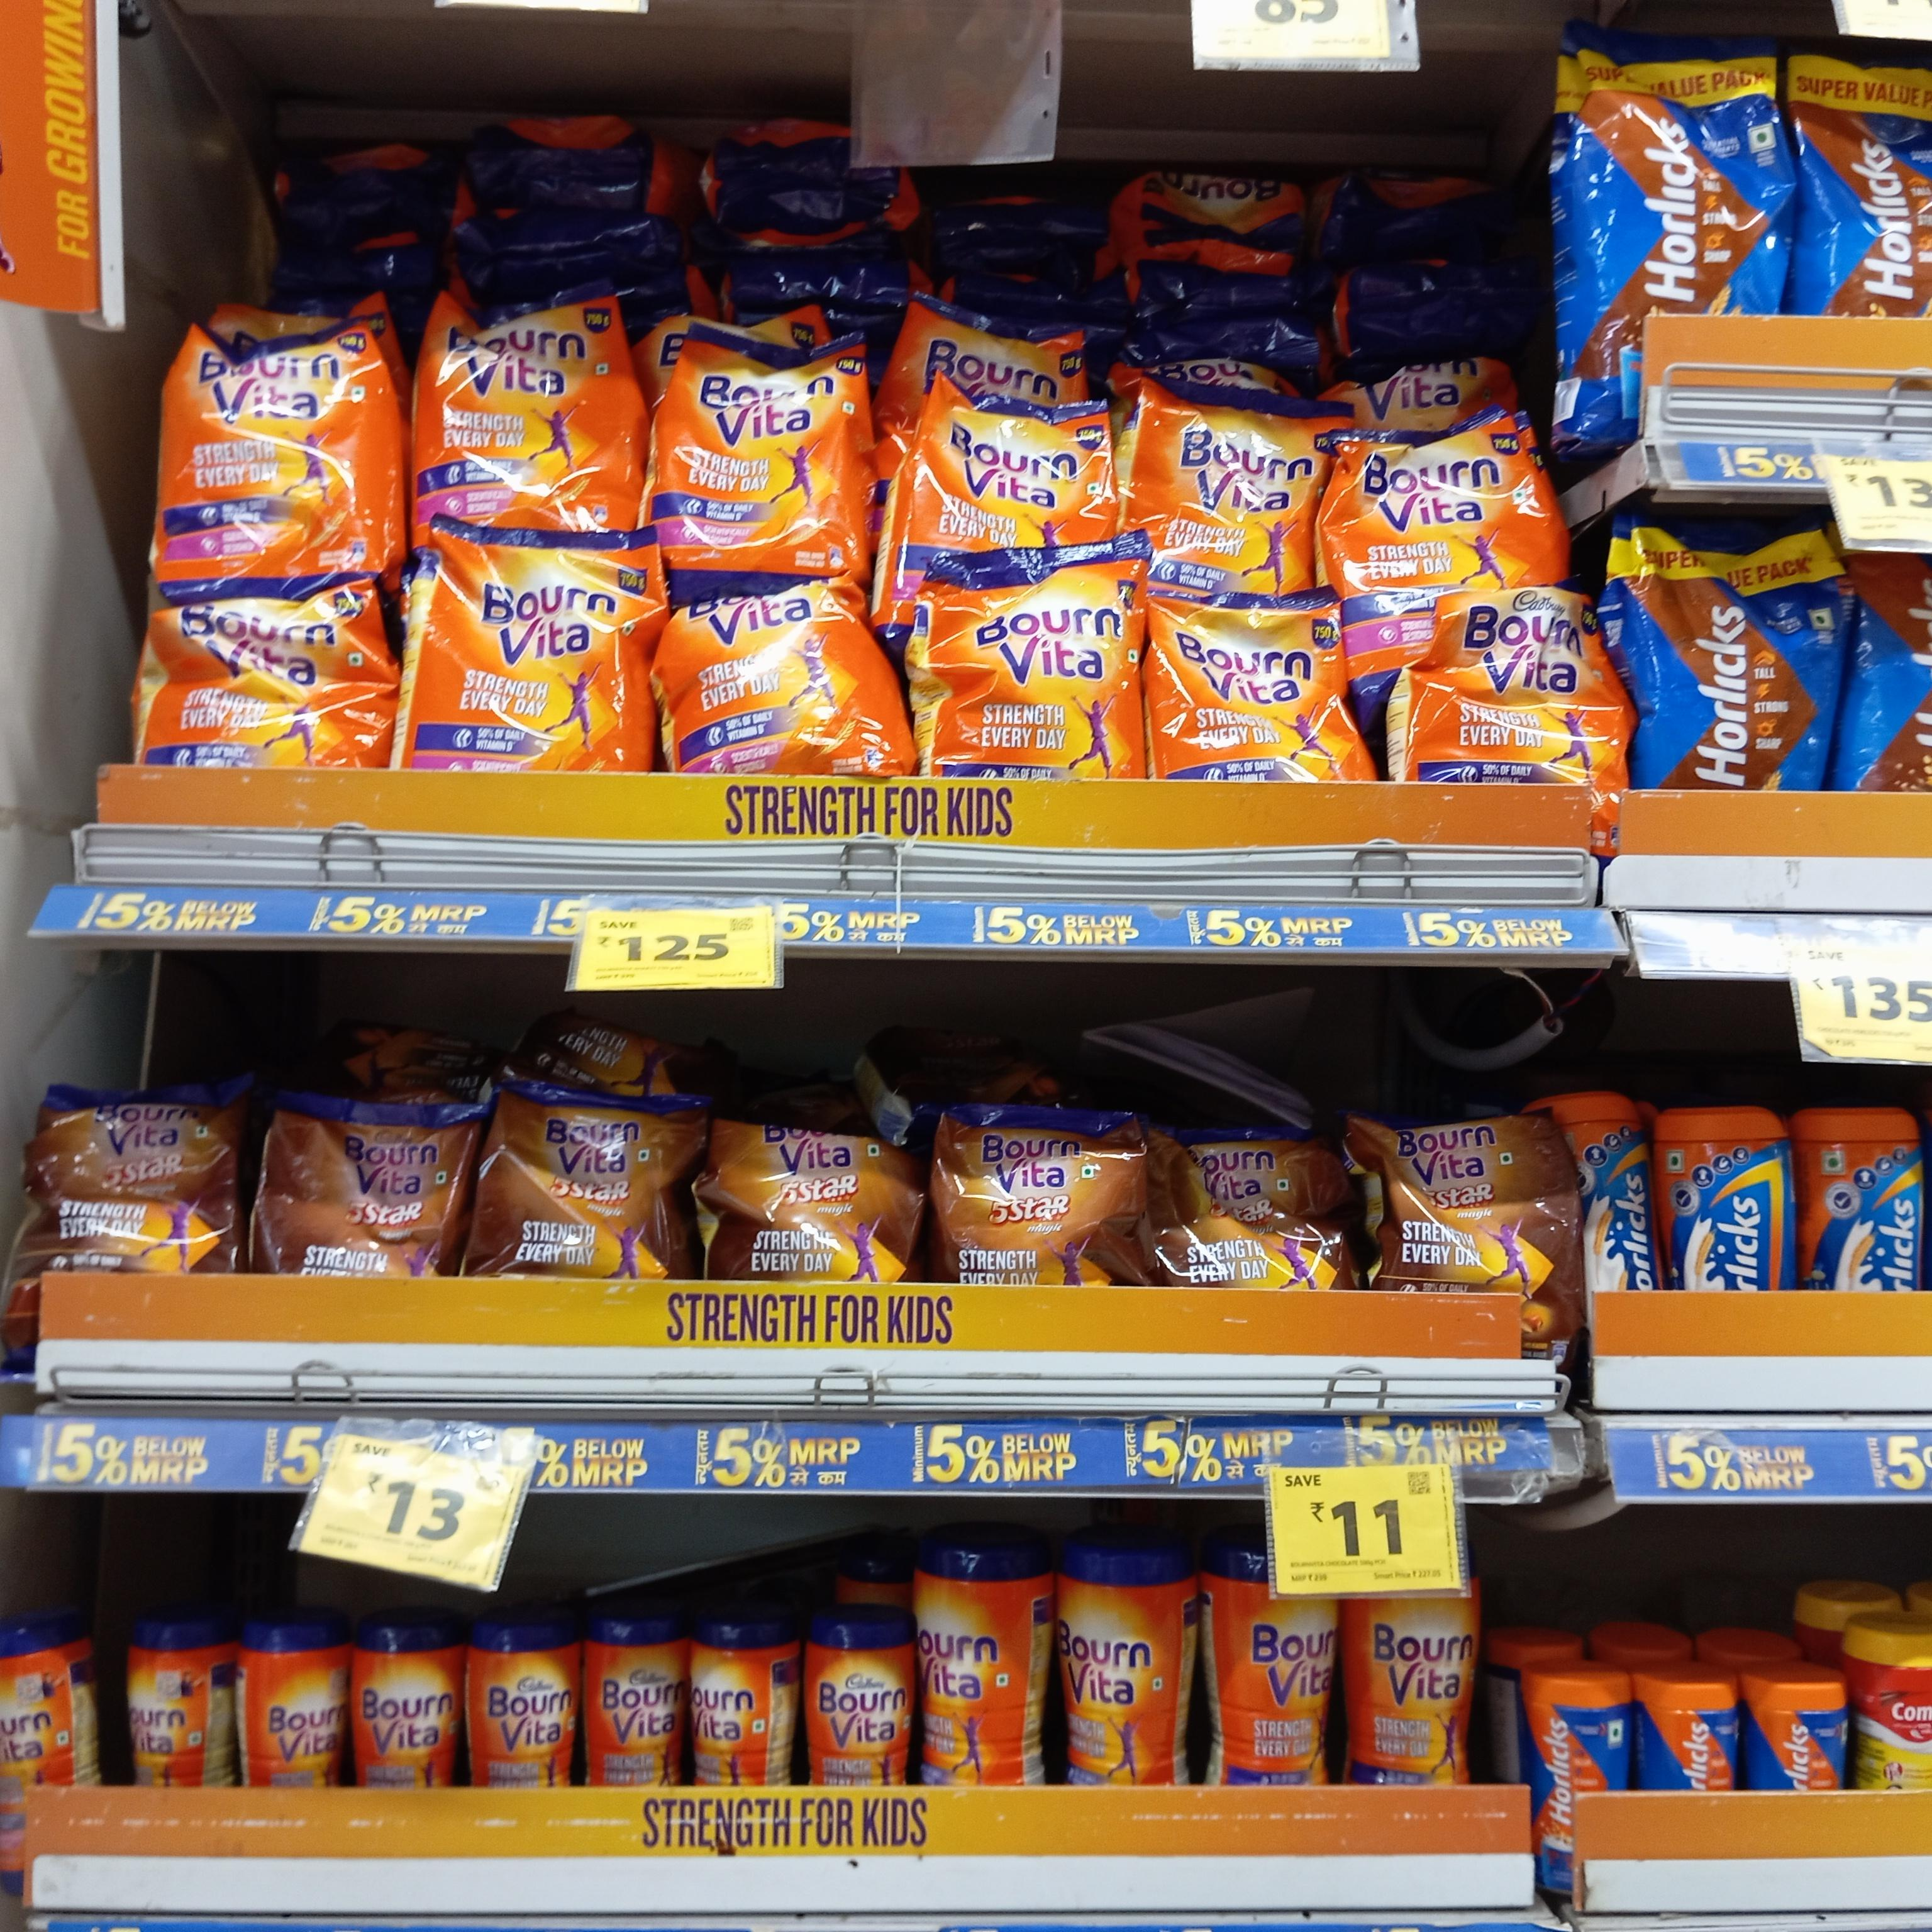BOURN_VITA_200_G_JAR: (0, 1605, 85, 1870), (474, 1612, 577, 1801), (805, 1614, 911, 1792), (241, 1617, 347, 1789), (586, 1612, 683, 1794), (688, 1596, 773, 1787), (354, 1621, 451, 1785), (115, 1622, 198, 1799)
BOURN_VITA_500_G_JAR: (1203, 1529, 1330, 1794), (1049, 1530, 1173, 1803), (924, 1529, 1037, 1803), (1359, 1569, 1484, 1790)
BOURN_VITA_750_G_POUCH: (150, 294, 391, 571), (412, 518, 649, 784), (934, 550, 1148, 780), (653, 333, 867, 559), (410, 288, 619, 515), (142, 589, 384, 775), (1146, 598, 1346, 786), (1143, 384, 1330, 582), (676, 593, 870, 782), (1438, 593, 1619, 791), (1346, 425, 1552, 589), (925, 393, 1108, 550)
BOURN_VITA_FIVE_STAR_MAGIC_500_G_POUCH: (16, 1076, 234, 1284), (485, 1076, 688, 1290), (1375, 1108, 1569, 1307), (945, 1100, 1136, 1300), (276, 1099, 476, 1274), (1162, 1127, 1341, 1293), (725, 1129, 911, 1281)
HORLICK_CHOCOLATE_750_G_POUCH: (1583, 48, 1789, 345), (1635, 522, 1836, 786), (1789, 55, 1932, 322)
HORLICK_CLASSIC_MALT_200_G_JAR: (1661, 1109, 1798, 1295), (1805, 1109, 1918, 1292)
